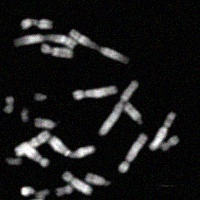chromosome: (100, 79, 138, 136), (70, 30, 129, 64), (118, 132, 146, 173), (13, 32, 77, 49), (149, 113, 174, 151), (15, 131, 51, 156), (51, 136, 93, 157), (62, 169, 91, 194), (21, 145, 48, 169), (72, 86, 117, 99), (40, 44, 74, 60), (125, 102, 143, 123), (21, 18, 52, 30), (86, 172, 111, 185), (161, 135, 180, 151), (35, 117, 57, 128), (56, 185, 74, 197), (4, 96, 14, 113), (20, 186, 35, 197), (35, 189, 48, 200), (33, 93, 48, 100), (21, 108, 28, 121), (20, 198, 44, 200)
